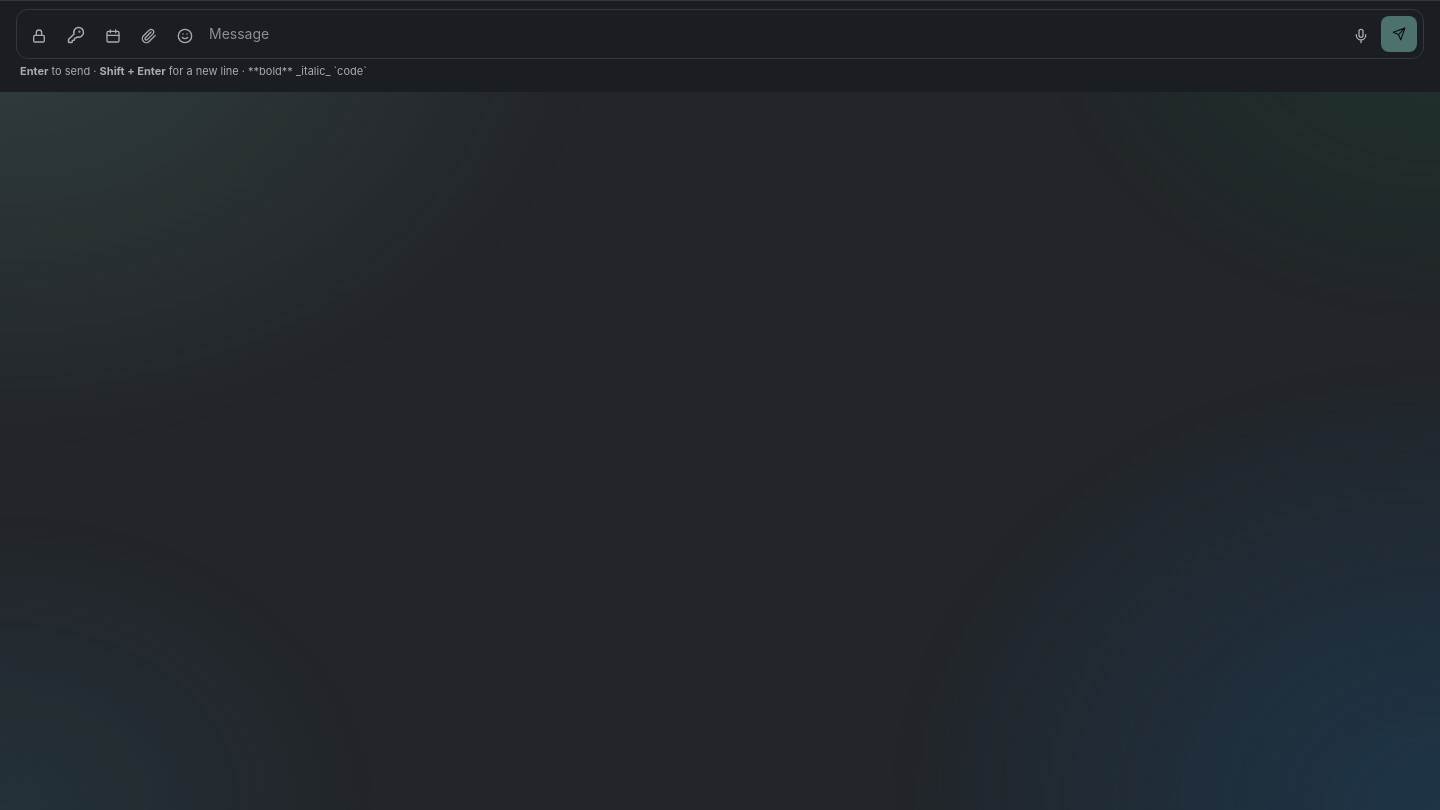
Test: mentioning someone (Phase 56) › suggests the conversation's people as you type @, and Enter writes the handle
The image size is (1440, 810).
In the text box with placeholder "Message": {"x": 773, "y": 34} [205,16,1341,52], type "hola @mar"
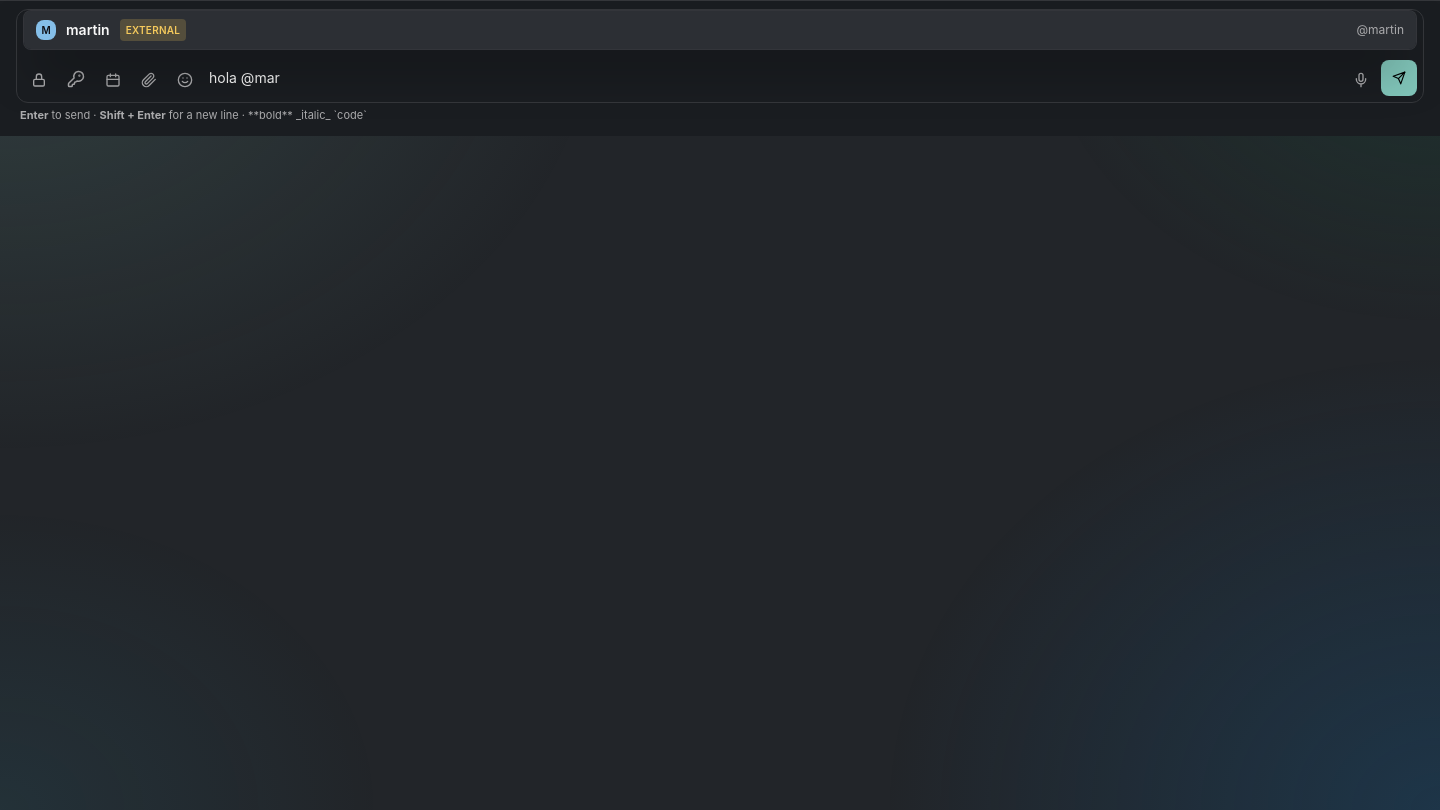
Check: the list named "Mention someone" shows "martin", box [24,11,1416,49]
Check: the list named "Mention someone" shows "External", box [24,11,1416,49]
Press Enter in the text box with placeholder "Message", box [205,60,1341,96]
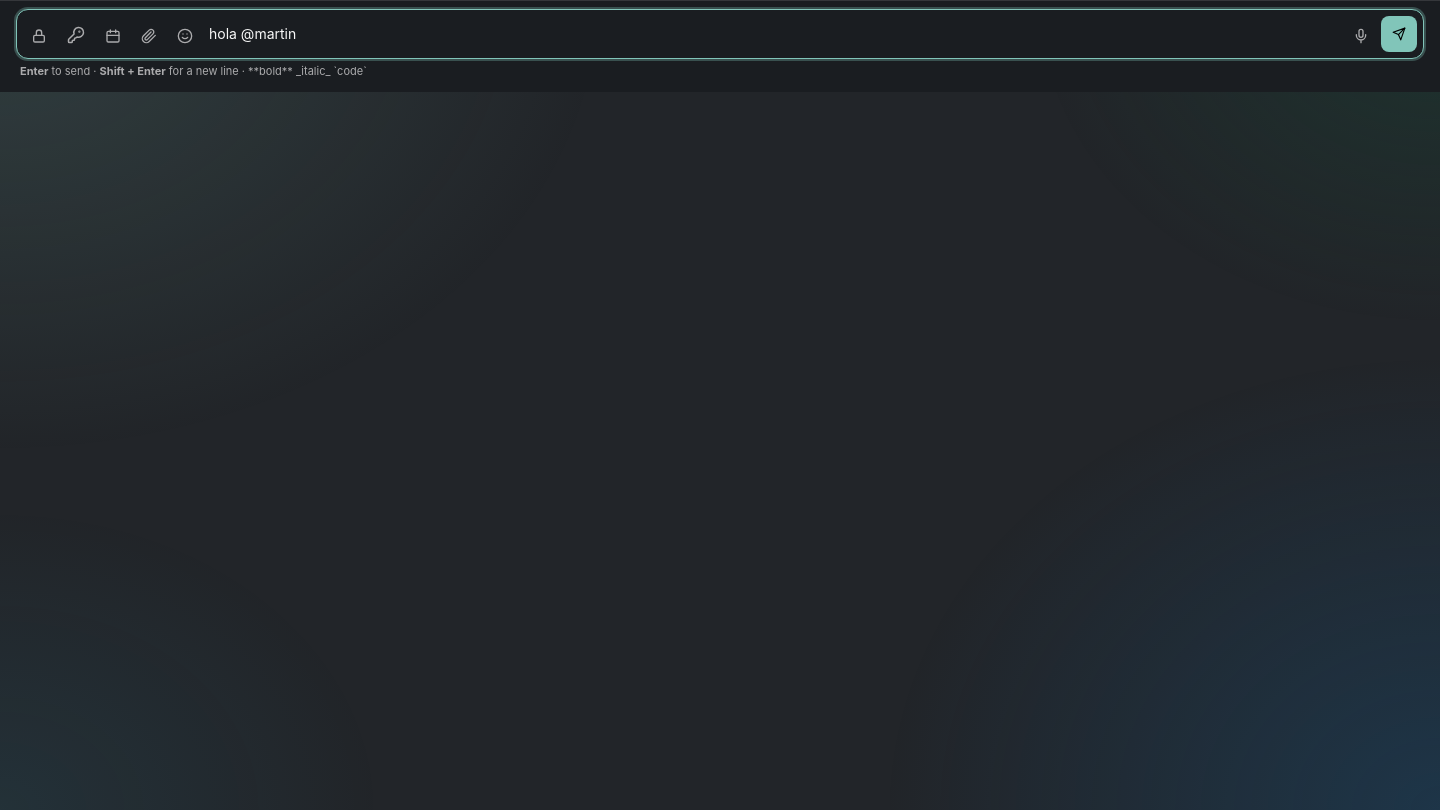
Check: the text box with placeholder "Message" holds "hola @martin ", box [205,16,1341,52]
